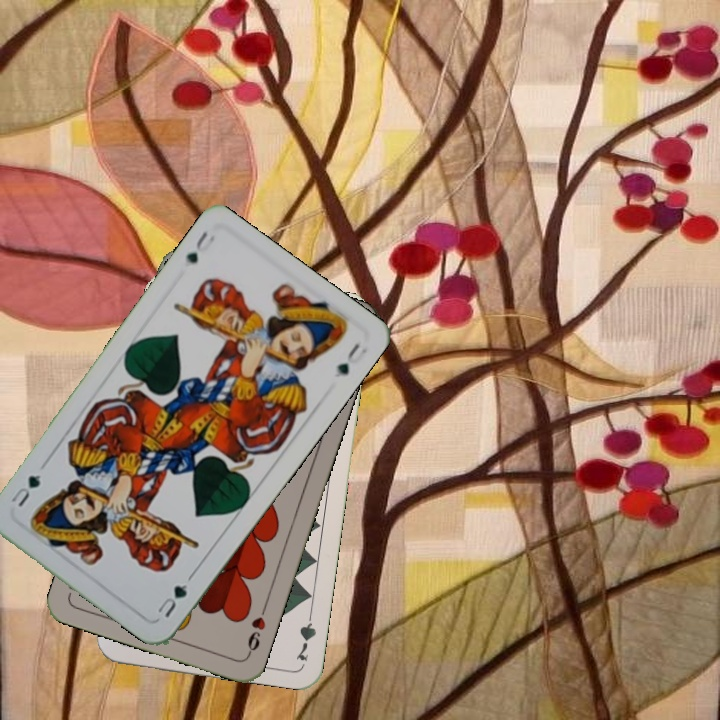G7: (292, 605, 319, 664)
GU: (152, 580, 190, 621), (181, 227, 218, 267)
H9: (243, 601, 270, 658)
